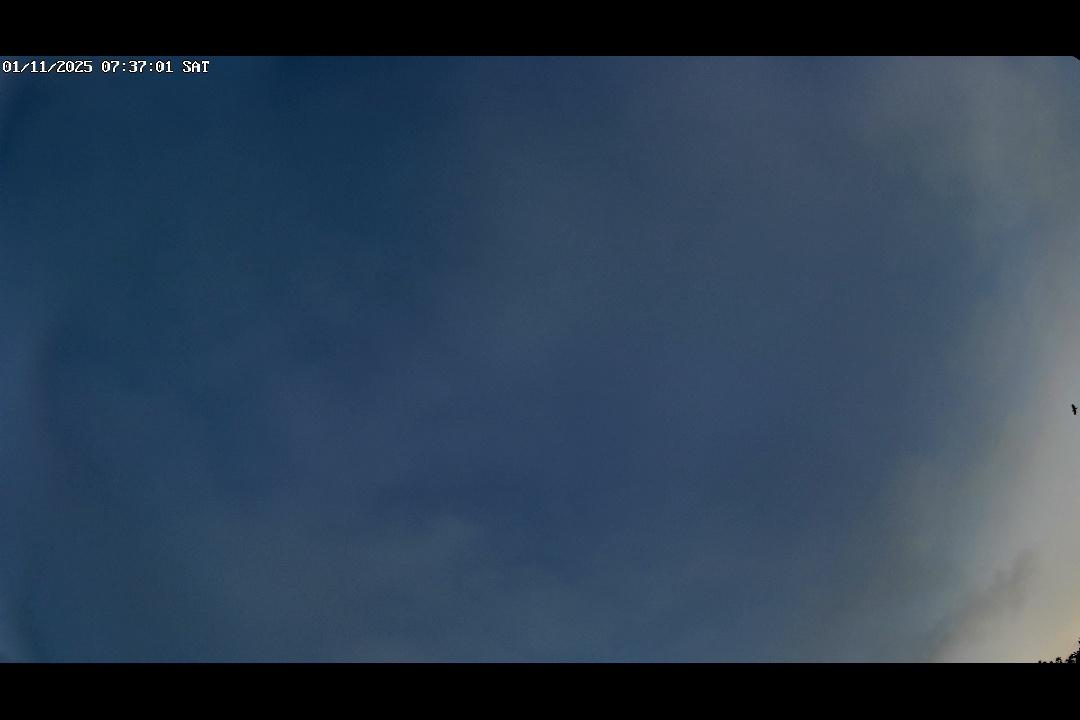WildLife: (1065, 400, 1080, 422)
